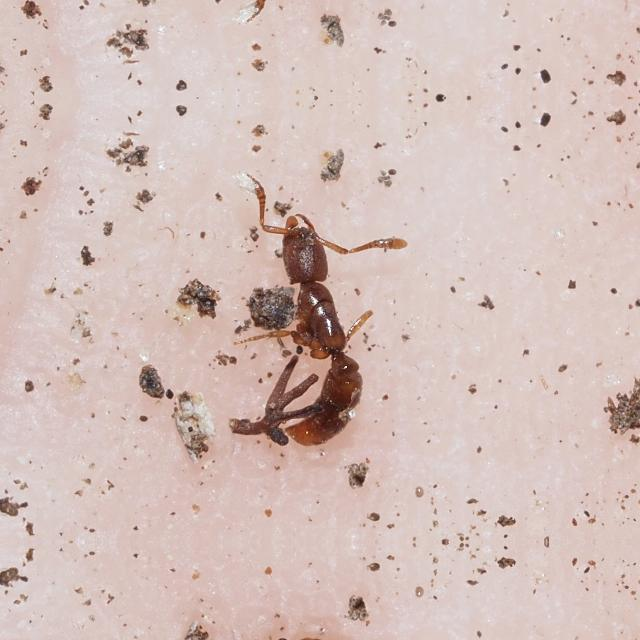Ponera: (225, 160, 419, 460)
